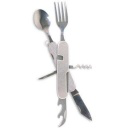fork: (44, 1, 73, 128)
